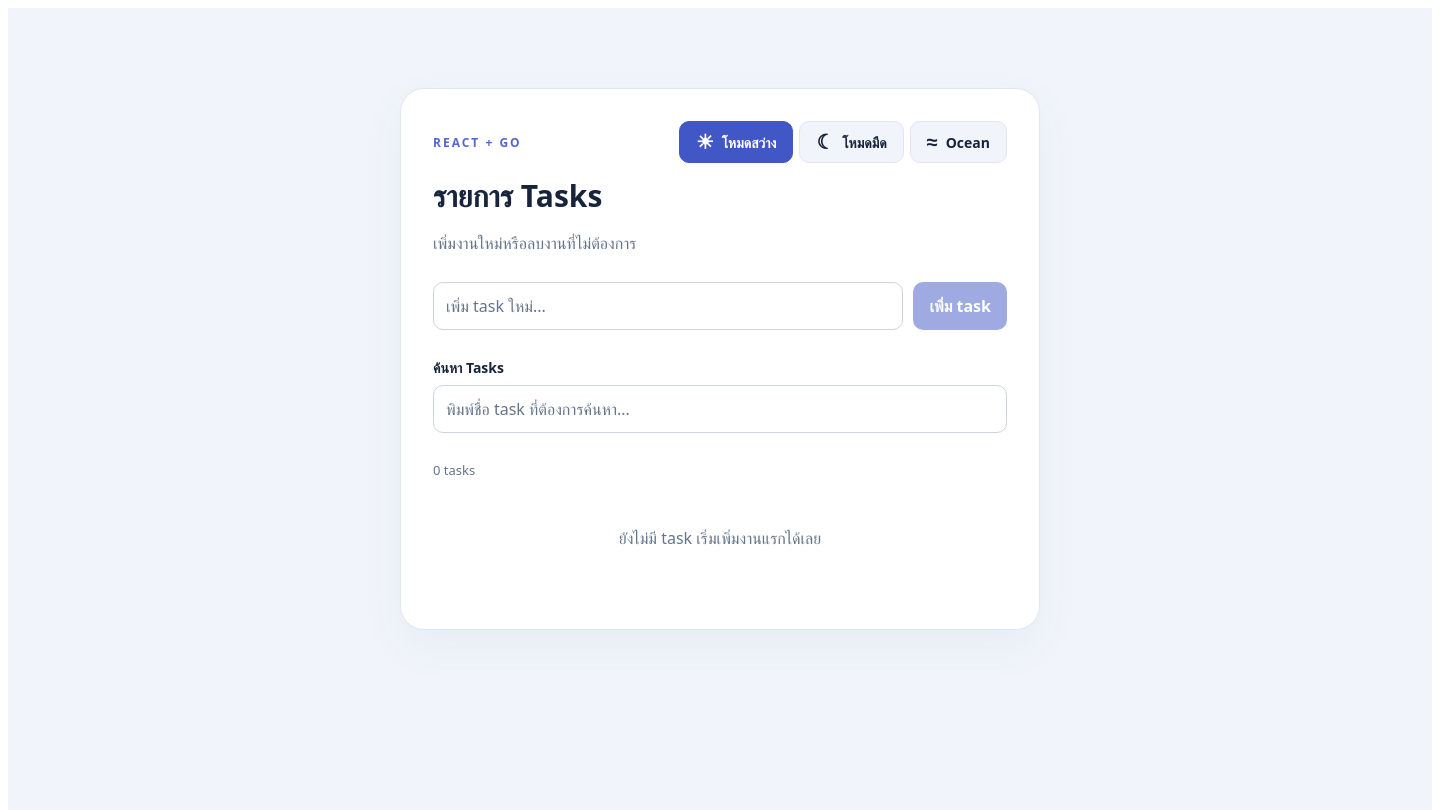
it: App › keeps the input when creation fails
Expected: the text "ยังไม่มี task เริ่มเพิ่มงานแรกได้เลย" is shown, [619,527,821,549]
Type "Test task" into the field at (668, 306), box [433,282,903,330]
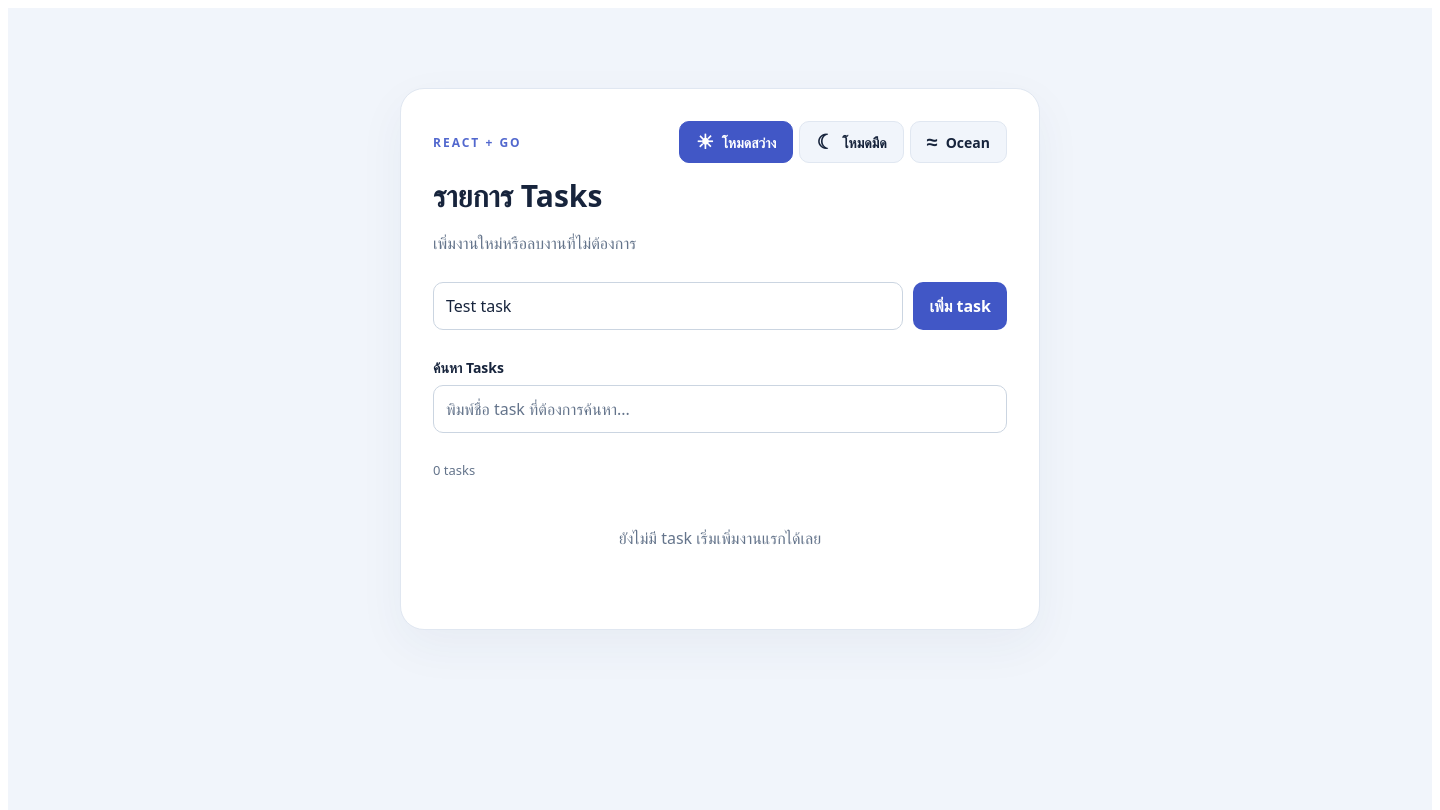
Click the button "เพิ่ม task" at (960, 306), box [913,282,1007,330]
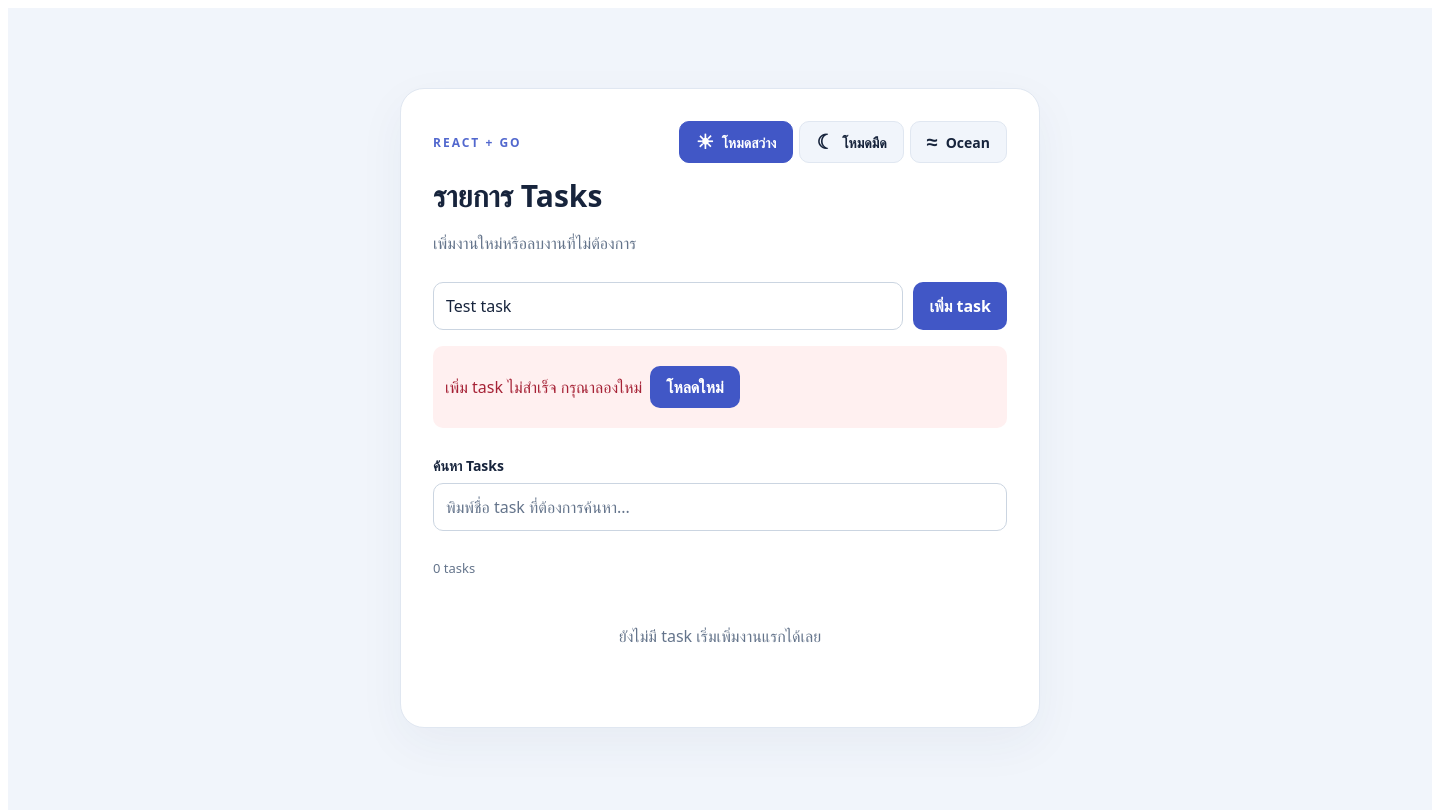
Result: the message "เพิ่ม task ไม่สำเร็จ กรุณาลองใหม่ โหลดใหม่" is shown at [433,346,1007,428]
